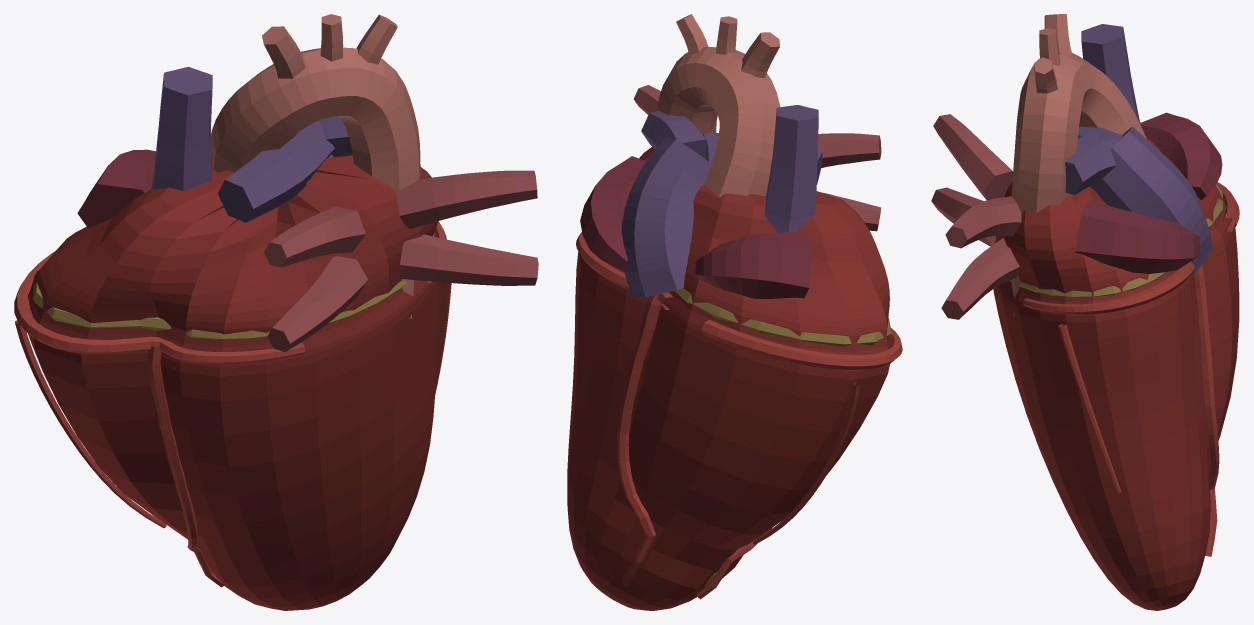
File: corazon.fbx
The picture shows the model from 3 angles, left to right: view 1: azimuth 30°, elevation 25°; view 2: azimuth 150°, elevation 25°; view 3: azimuth 270°, elevation 25°; orthographic projection. The views are drawn at different scales.
Parts seen in each view (by area): view 1: Corazon; view 2: Corazon; view 3: Corazon.
Boxes of the visible parts, x1=… form: Corazon: x1=14, y1=14, x2=538, y2=610; Corazon: x1=567, y1=14, x2=902, y2=610; Corazon: x1=931, y1=14, x2=1239, y2=610.
Bounding box in the file's own units: 10.02 × 15.16 × 7.61.
